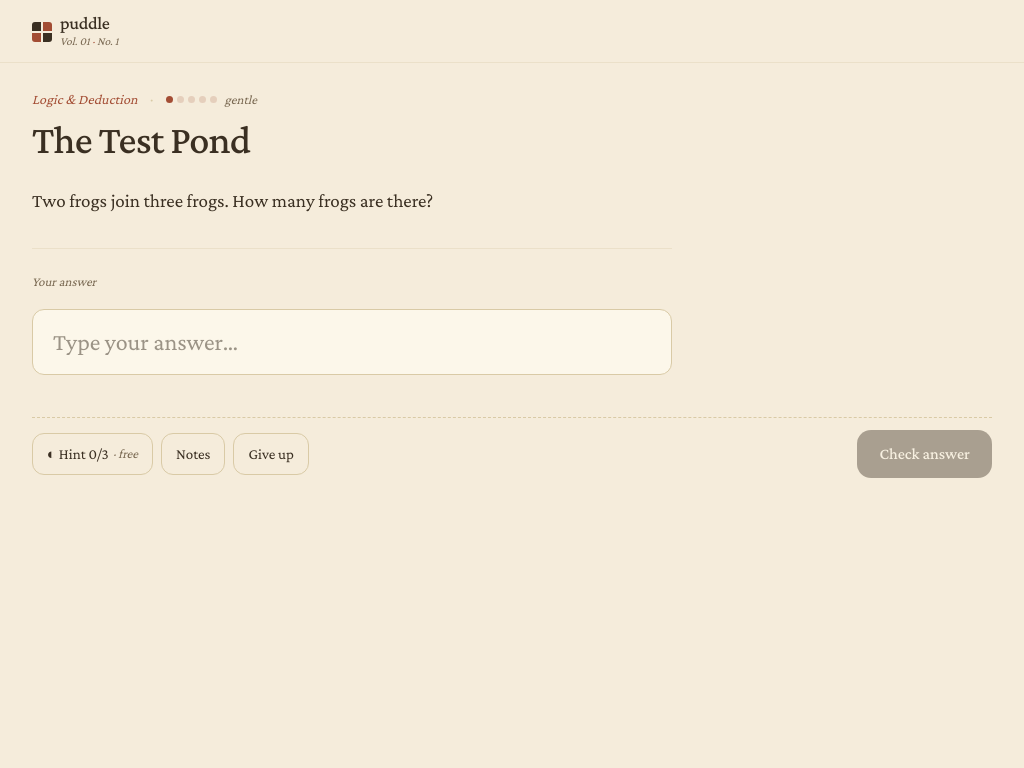
Test case: requires an answer, accepts a correct response and records daily progress
expect the button "Check answer" is disabled: met, box [857,430,992,478]
Type "5" into the field with placeholder "Type your answer…".
click(352, 342); type("5")  # box [32,309,672,375]
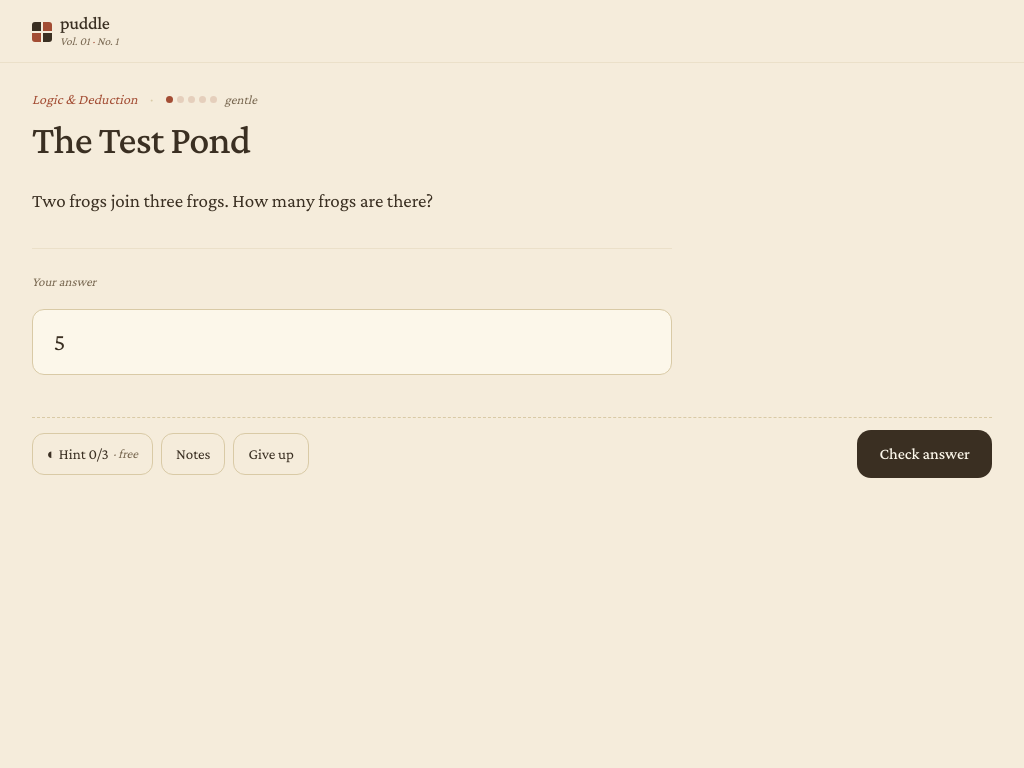
Click the button "Check answer".
click(925, 454)  # box [857,430,992,478]
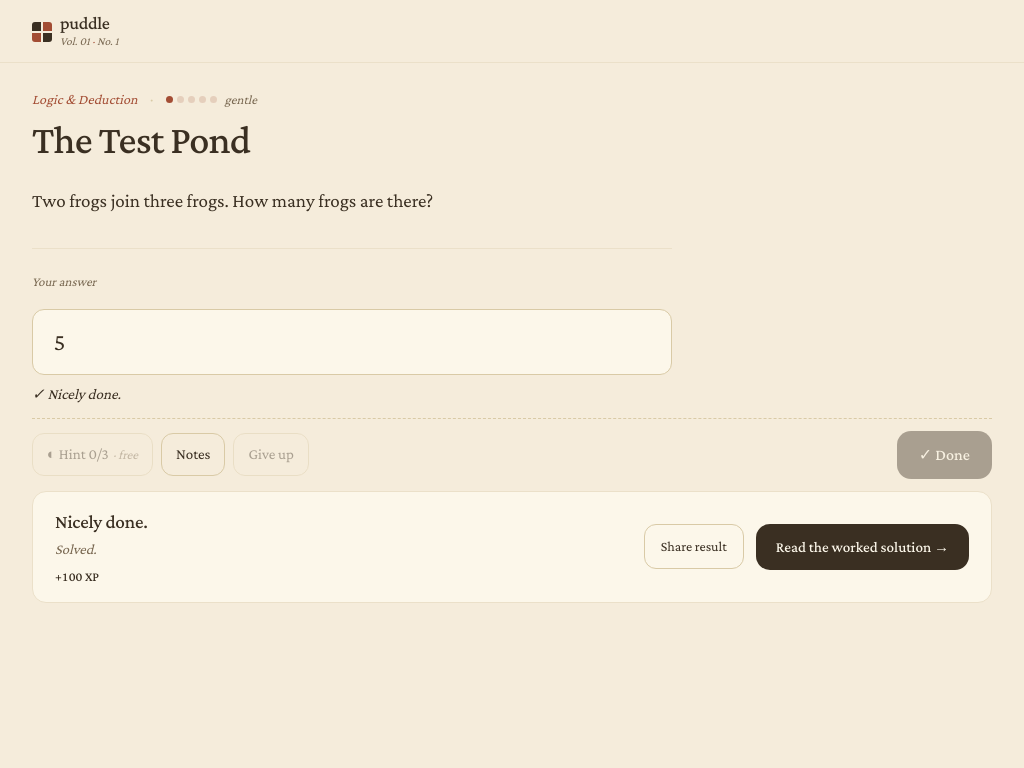
expect the button "✓ Done" is disabled: met, box [897,430,992,478]
